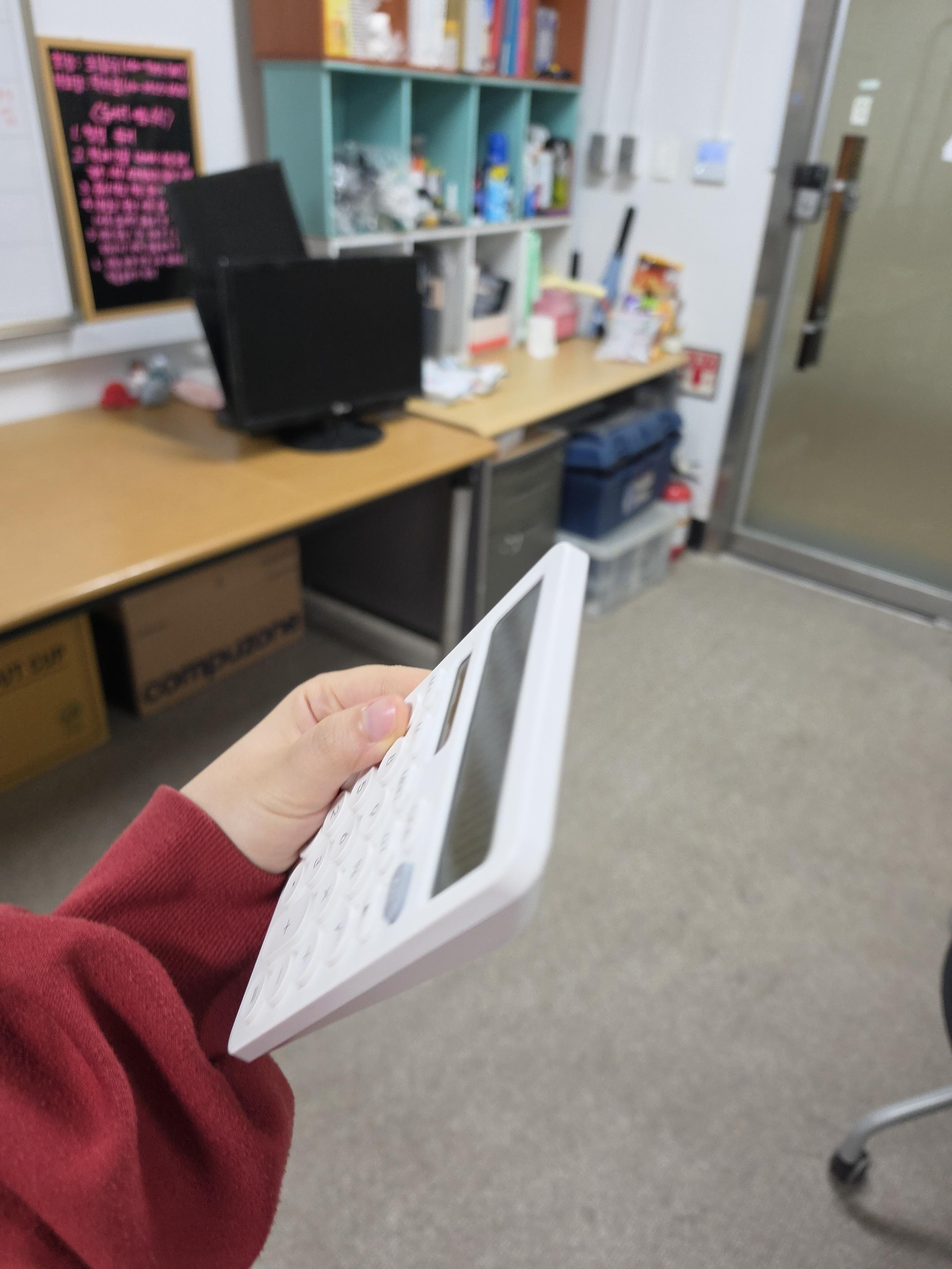calculator: (228, 541, 589, 1063)
tissue: (527, 316, 557, 361)
